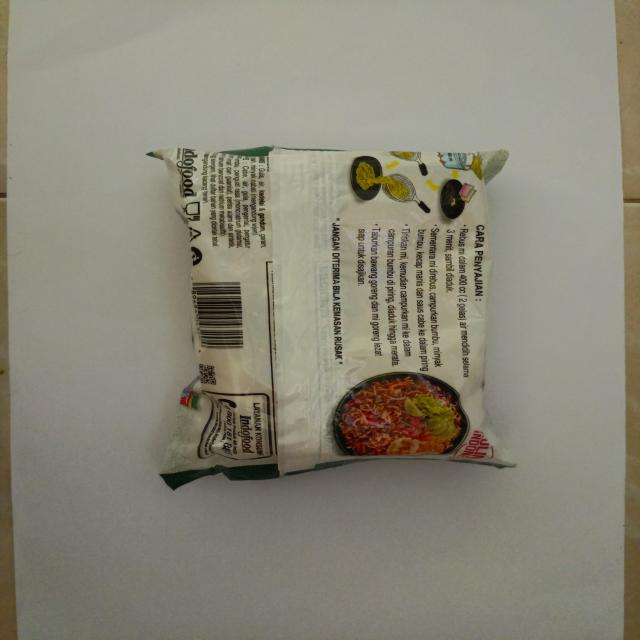gery-salut-coconut: (146, 146, 524, 490)
